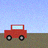vehicle: (4, 25, 26, 41)
